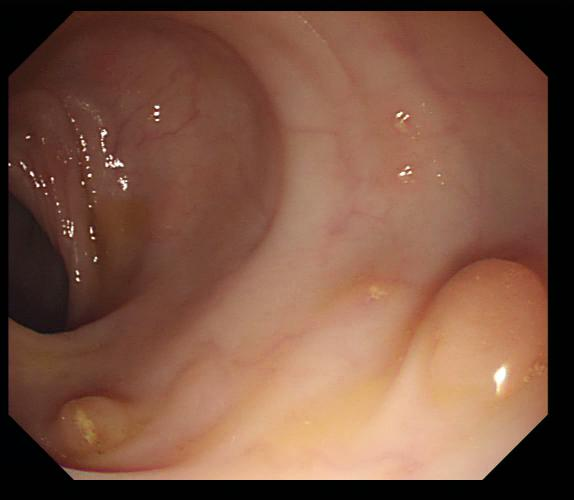polyp: (384, 254, 550, 432), (43, 392, 140, 457), (393, 162, 423, 193), (359, 281, 393, 308), (389, 107, 416, 139)
